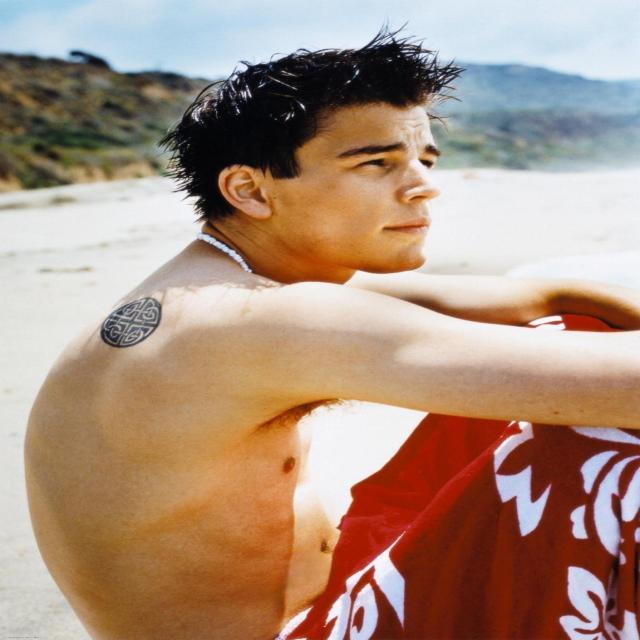no-earmuff: (218, 164, 270, 218)
